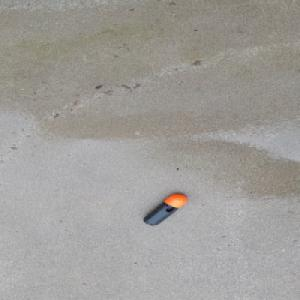PlasticPart: (142, 193, 188, 225)
